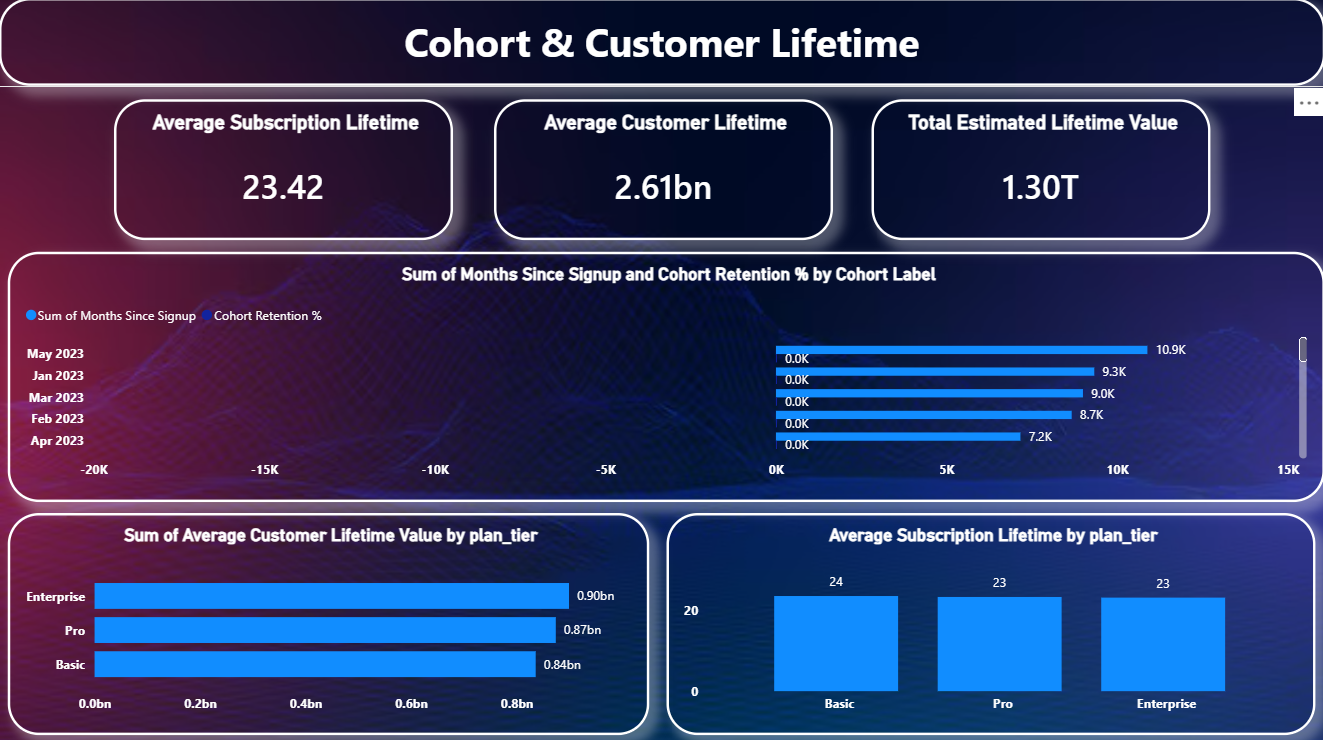

This screenshot's page, from the dashboard's own definition file:
{"tool":"powerbi","page":{"name":"CCL","canvas":[1280,720],"ordinal":2},"visuals":[{"type":"textbox","box":[0,0,1280.3,85.1],"z":0},{"type":"cardVisual","title":"Average Subscription Lifetime","fields":{"Data":["ravenstack_subscriptions.Average Subscription Lifetime"]},"box":[111,97.7,326.9,136.3],"z":1},{"type":"cardVisual","title":"Average Customer Lifetime","fields":{"Data":["Sum(ravenstack_subscriptions.Average Customer Lifetime Value)"]},"box":[477.8,97.7,326.9,136.3],"z":2},{"type":"cardVisual","title":"Total Estimated Lifetime Value","fields":{"Data":["Sum(ravenstack_subscriptions.Total Estimated Lifetime Revenue)"]},"box":[842.1,97.7,326.9,136.3],"z":3},{"type":"clusteredBarChart","fields":{"Category":["ravenstack_accounts.Cohort Label"],"Y":["Sum(ravenstack_feature_usage.Months Since Signup)","ravenstack_feature_usage.Cohort Retention %"]},"box":[8.4,244.9,1271.6,241.3],"z":4},{"type":"barChart","fields":{"Category":["ravenstack_subscriptions.plan_tier"],"Y":["Sum(ravenstack_subscriptions.Average Customer Lifetime Value)"]},"box":[8.4,497.1,618.9,214.7],"z":5},{"type":"columnChart","fields":{"Category":["ravenstack_subscriptions.plan_tier"],"Y":["ravenstack_subscriptions.Average Subscription Lifetime"]},"box":[644.2,497.1,626.1,214.7],"z":6}]}

Visuals, with their boxes in screenshot pixels (x1, y1, x2, y2), scaled from the page's 1280x720 canvas onto the 1323x740 screenshot:
textbox: <box>0,0,1322,87</box>
"Average Subscription Lifetime" cardVisual: <box>115,100,453,240</box>
"Average Customer Lifetime" cardVisual: <box>494,100,832,240</box>
"Total Estimated Lifetime Value" cardVisual: <box>870,100,1208,240</box>
clusteredBarChart - ravenstack_accounts.Cohort Label x Sum(ravenstack_feature_usage.Months Since Signup): <box>9,252,1322,500</box>
barChart - ravenstack_subscriptions.plan_tier x Sum(ravenstack_subscriptions.Average Customer Lifetime Value): <box>9,511,648,732</box>
columnChart - ravenstack_subscriptions.plan_tier x ravenstack_subscriptions.Average Subscription Lifetime: <box>666,511,1313,732</box>
